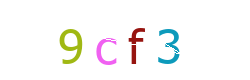3: (130, 0, 210, 80)
9: (55, 0, 135, 80)
C: (67, 0, 147, 80)
F: (85, 0, 165, 80)
